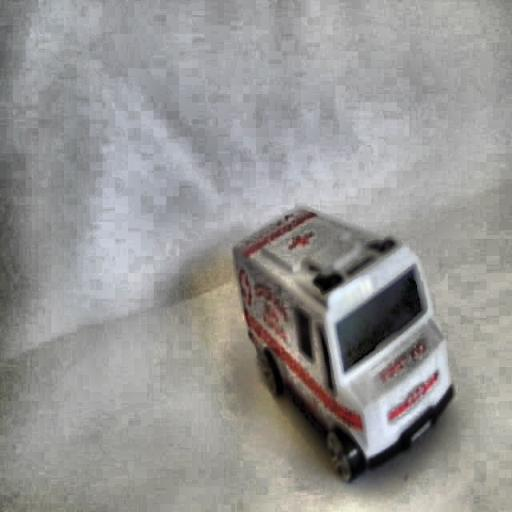ambulance: (232, 206, 454, 483)
